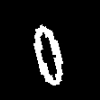chain: (34, 25, 62, 84)
